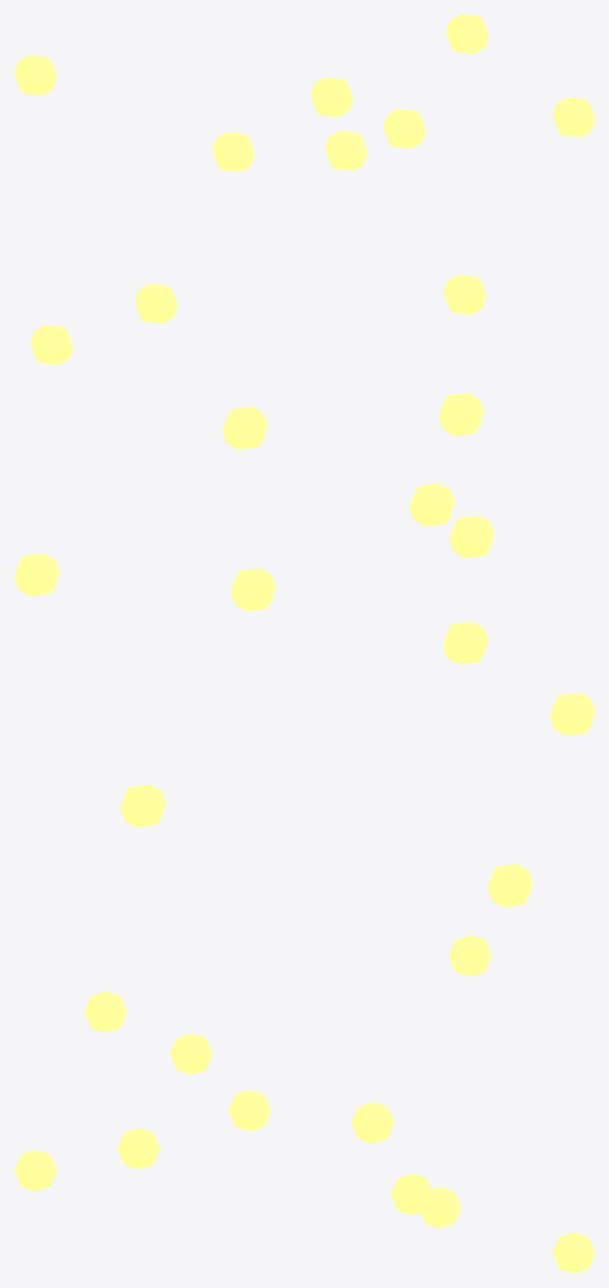
File: Gluhwurmche2_1.fbx
The picture shows the model from 3 angles, top to bottom: view 1: azimuth 30°, elevation 25°; view 2: azimuth 150°, elevation 25°; view 3: azimuth 270°, elevation 25°; orthographic projection. The views are drawn at different scales.
Visible parts, largest first — view 1: 立方体, 立方体.009; view 2: 立方体.009, 立方体; view 3: 立方体, 立方体.009.
Boxes of the visible parts, box(x1,y1,x2,y2) form: 立方体: box(14, 55, 594, 323); 立方体.009: box(30, 14, 487, 364); 立方体.009: box(14, 393, 532, 906); 立方体: box(222, 407, 594, 735); 立方体: box(14, 935, 491, 1191); 立方体.009: box(84, 991, 594, 1273).
Bounding box in the file's own units: 163 × 106 × 176.
